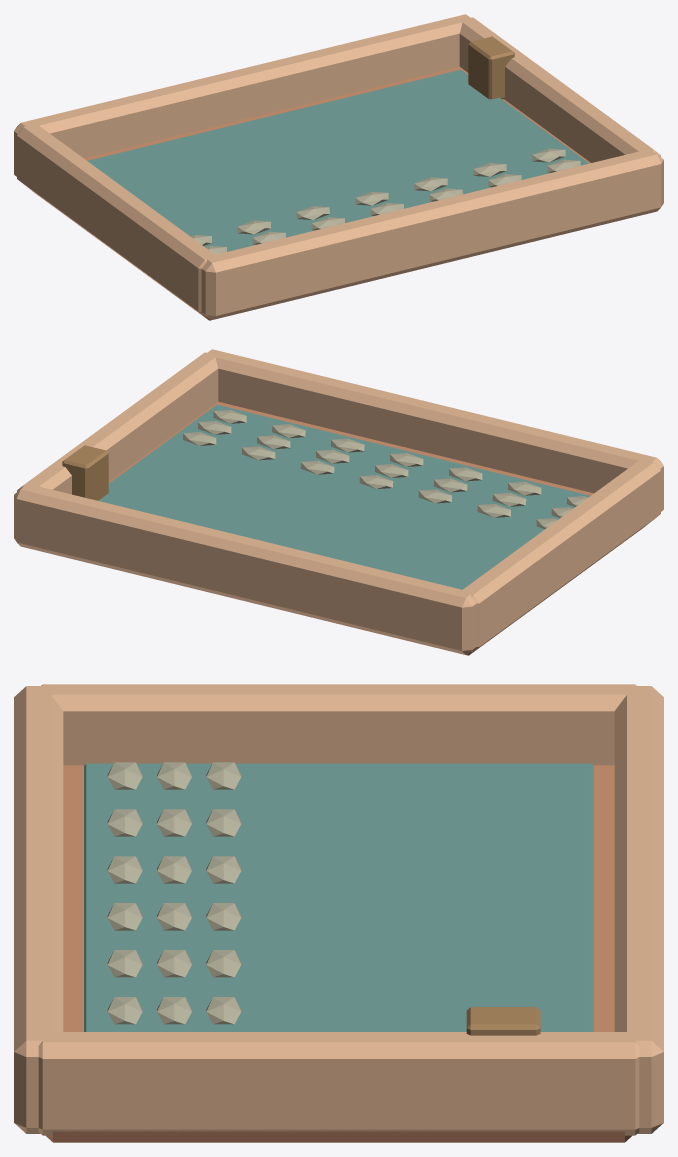
The picture shows the model from 3 angles, top to bottom: view 1: azimuth 30°, elevation 25°; view 2: azimuth 150°, elevation 25°; view 3: azimuth 270°, elevation 25°; orthographic projection. The views are drawn at different scales.
Parts seen in each view (by area): view 1: CE-001 Banked coastal salt evaporation pan batched; view 2: CE-001 Banked coastal salt evaporation pan batched; view 3: CE-001 Banked coastal salt evaporation pan batched.
Part boxes in pixels (x1,y1,x2,y2): CE-001 Banked coastal salt evaporation pan batched: [14, 14, 663, 320]; CE-001 Banked coastal salt evaporation pan batched: [14, 349, 663, 655]; CE-001 Banked coastal salt evaporation pan batched: [14, 684, 663, 1142].
Bounding box in the file's own units: 2.12 × 0.31 × 1.58.
